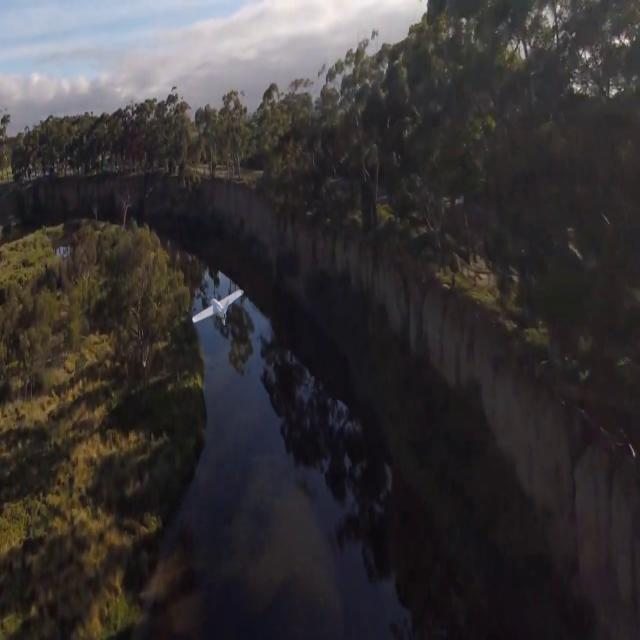iha: (191, 284, 243, 328)
